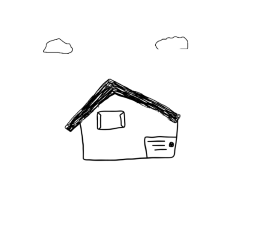clouds: (37, 31, 83, 62), (151, 32, 196, 58)
door: (138, 123, 188, 163)
open_window: (93, 106, 128, 133)
shaded_roof: (49, 76, 193, 134)
small_house: (1, 1, 260, 240)
wall: (76, 107, 182, 165)
